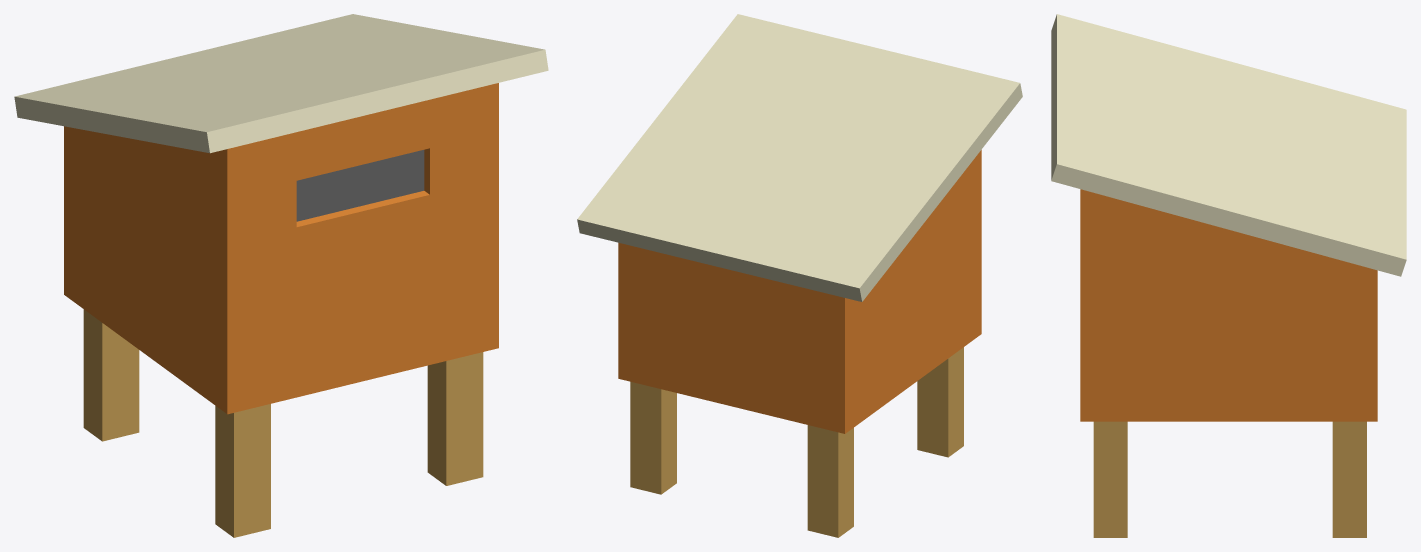
File: hive_1.fbx
The picture shows the model from 3 angles, left to right: view 1: azimuth 30°, elevation 25°; view 2: azimuth 150°, elevation 25°; view 3: azimuth 270°, elevation 25°; orthographic projection. The views are drawn at different scales.
Visible parts, largest first — view 1: Cube_12; view 2: Cube_12; view 3: Cube_12.
Boxes of the visible parts, x1,y1,x2,y2 form: Cube_12: (14, 14, 548, 537); Cube_12: (577, 14, 1022, 537); Cube_12: (1051, 14, 1406, 537).
Bounding box in the file's own units: 82.26 × 100 × 82.34.
